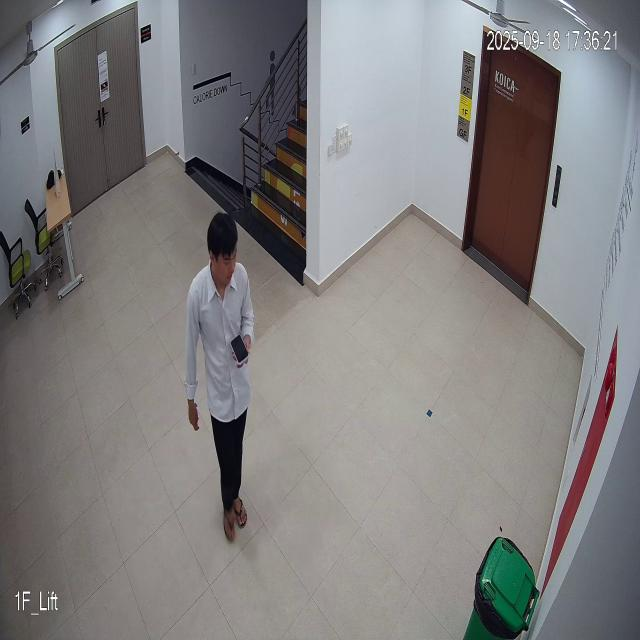face: (206, 212, 242, 290)
